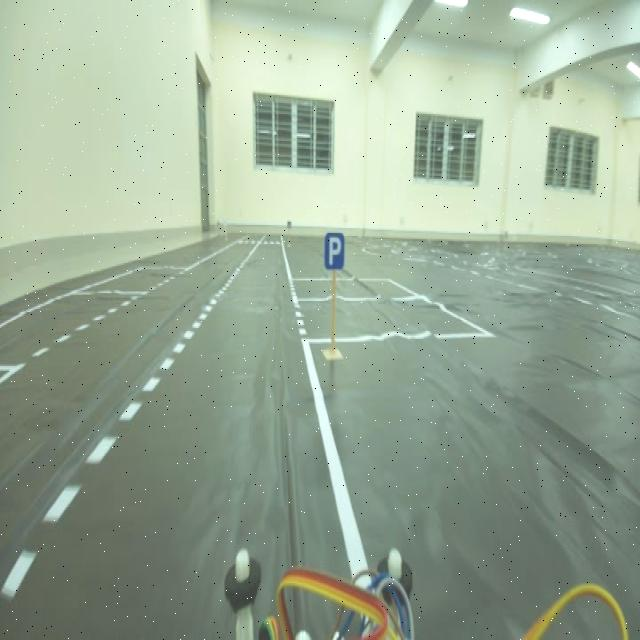parking: (321, 226, 351, 280)
